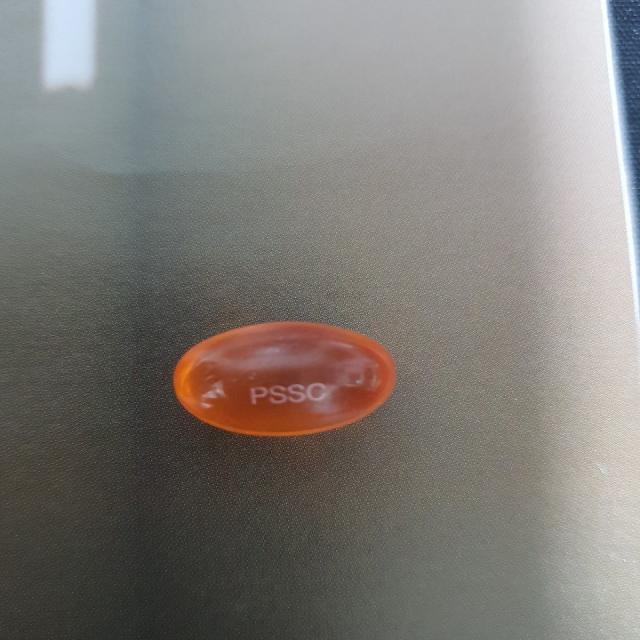pill: (164, 308, 398, 444)
